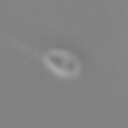normal: (1, 30, 46, 59)
